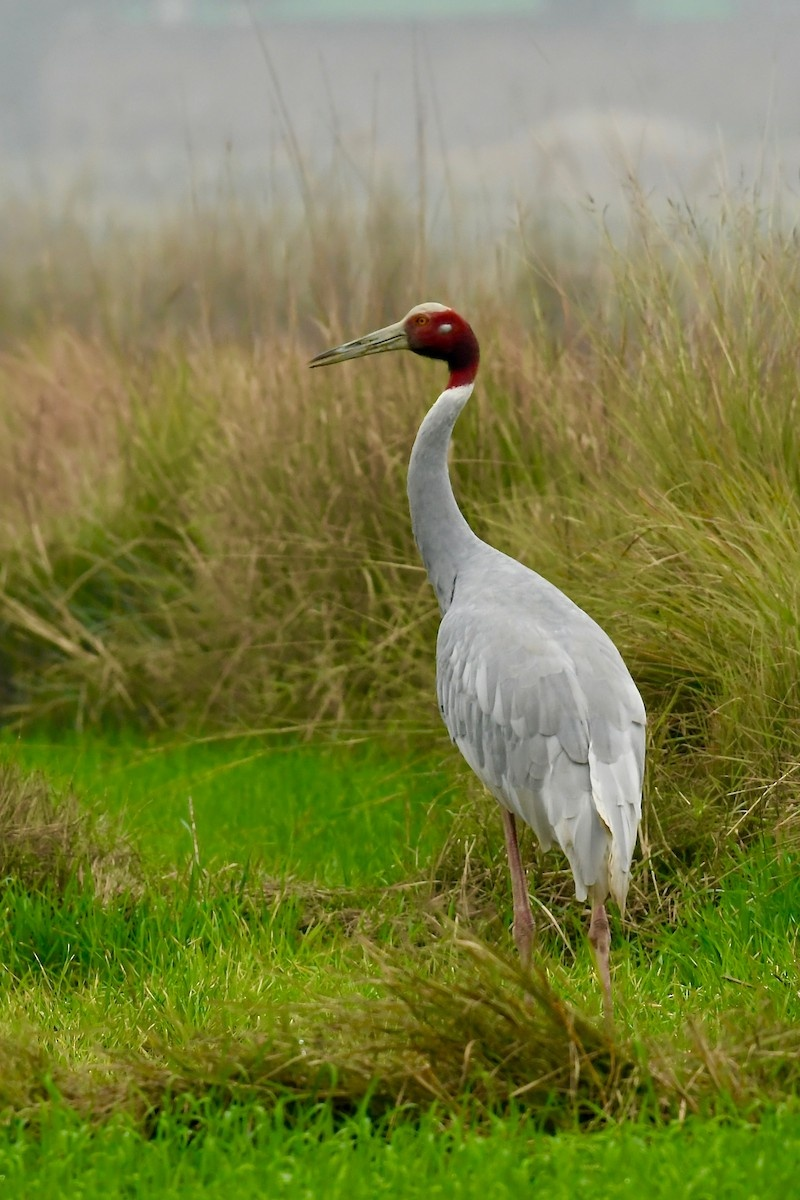crane: (305, 289, 667, 985)
